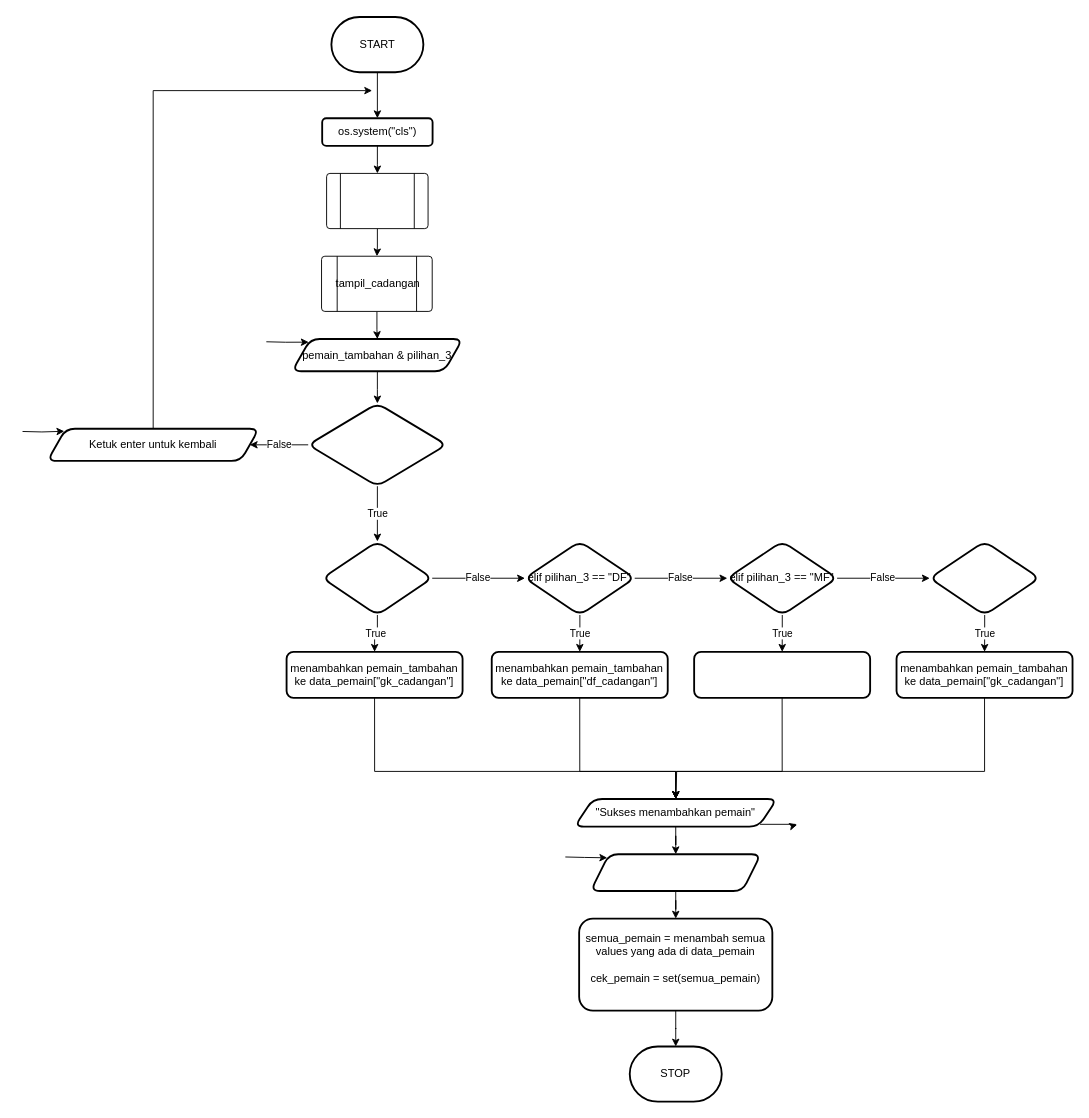
This 1089x1118 diagram has some shape labels left out. The shapes that lost their labels are listed below. From the top down, each one's centre as x and y in pixels, then its label:
(x=377, y=200): tampil_starting
(x=377, y=444): pemain_tambahan & pilihan_3 valid ?
(x=377, y=577): if pilihan_3 == "GK"
(x=984, y=577): elif pilihan_3 == "FW"
(x=782, y=674): menambahkan pemain_tambahan ke data_pemain["mf_cadangan"]
(x=675, y=872): Ketuk enter untuk kembali memilih menu
